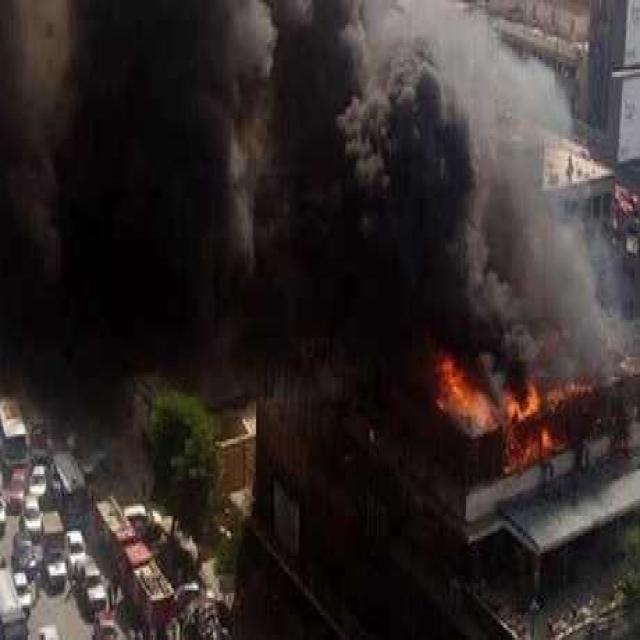Fire: (413, 325, 596, 490)
Smoke: (0, 0, 564, 335)
